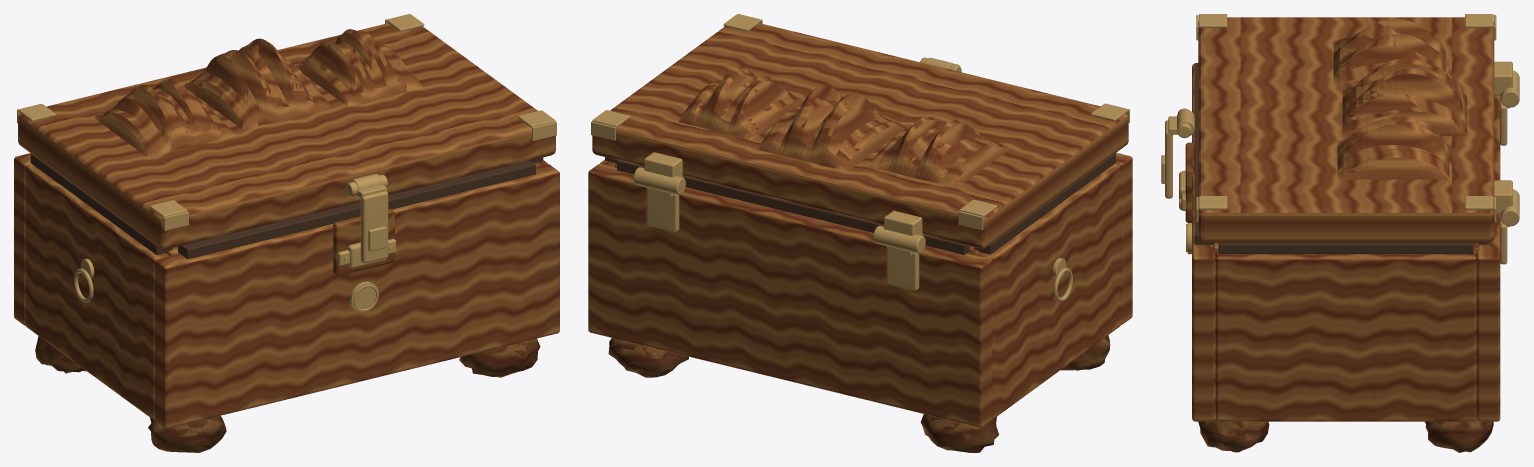
File: angola.glb
3 renders of one model, left to right at view 1: azimuth 30°, elevation 25°; view 2: azimuth 150°, elevation 25°; view 3: azimuth 270°, elevation 25°, orthographic.
Parts seen in each view (by area): view 1: Sediment / front rear, Lid / polished slab, Sediment / side, Cliff / eroded buttress 1, Cliff / eroded buttress 0, Cliff / eroded buttress 2, Earth seam / long, Sediment / front rear.001, Granite foot, Granite foot.002, Latch / lifting hasp, Sediment / clasp seat (+3 smaller); view 2: Sediment / front rear.001, Lid / polished slab, Sediment / side, Cliff / eroded buttress 1, Cliff / eroded buttress 0, Cliff / eroded buttress 2, Earth seam / long.001, Sediment / front rear, Granite foot.001, Granite foot.003, Earth seam / side, Hinge / fixed mount (+6 smaller); view 3: Lid / polished slab, Sediment / side.001, Cliff / eroded buttress 1, Cliff / eroded buttress 2, Sediment / front rear.001, Cliff / eroded buttress 0, Sediment / front rear, Earth seam / side.001, Granite foot.002, Granite foot.003, Earth seam / long, Sediment / clasp seat (+9 smaller).
Part boxes in pixels (bbox=[...]): Sediment / front rear: bbox=[154, 164, 559, 428]; Lid / polished slab: bbox=[18, 23, 555, 249]; Sediment / side: bbox=[25, 164, 169, 419]; Cliff / eroded buttress 1: bbox=[181, 38, 334, 129]; Cliff / eroded buttress 0: bbox=[92, 79, 238, 156]; Cliff / eroded buttress 2: bbox=[295, 29, 425, 106]; Earth seam / long: bbox=[178, 160, 535, 258]; Sediment / front rear.001: bbox=[14, 153, 31, 325]; Granite foot: bbox=[148, 415, 226, 452]; Granite foot.002: bbox=[459, 338, 540, 377]; Latch / lifting hasp: bbox=[360, 191, 388, 263]; Sediment / clasp seat: bbox=[333, 209, 394, 275]; Sediment / front rear.001: bbox=[588, 164, 992, 427]; Lid / polished slab: bbox=[592, 23, 1128, 248]; Sediment / side: bbox=[978, 164, 1120, 418]; Cliff / eroded buttress 1: bbox=[755, 85, 907, 171]; Cliff / eroded buttress 0: bbox=[866, 117, 1011, 187]; Cliff / eroded buttress 2: bbox=[675, 65, 804, 140]; Earth seam / long.001: bbox=[617, 160, 969, 254]; Sediment / front rear: bbox=[1115, 152, 1132, 324]; Granite foot.001: bbox=[920, 414, 998, 452]; Granite foot.003: bbox=[608, 338, 688, 377]; Earth seam / side: bbox=[974, 153, 1115, 254]; Hinge / fixed mount: bbox=[886, 246, 919, 290]; Lid / polished slab: bbox=[1198, 17, 1494, 242]; Sediment / side.001: bbox=[1215, 250, 1476, 421]; Cliff / eroded buttress 1: bbox=[1342, 58, 1466, 135]; Cliff / eroded buttress 2: bbox=[1337, 116, 1449, 179]; Sediment / front rear.001: bbox=[1476, 95, 1500, 421]; Cliff / eroded buttress 0: bbox=[1333, 18, 1445, 86]; Sediment / front rear: bbox=[1192, 63, 1215, 421]; Earth seam / side.001: bbox=[1218, 243, 1473, 253]; Granite foot.002: bbox=[1198, 420, 1269, 452]; Granite foot.003: bbox=[1425, 420, 1493, 452]; Earth seam / long: bbox=[1194, 63, 1214, 244]; Sediment / clasp seat: bbox=[1185, 142, 1194, 222].
Size of the model in its own units: 3.79 by 2.73 by 2.88.
Materials: 4 (2 with a texture image).
